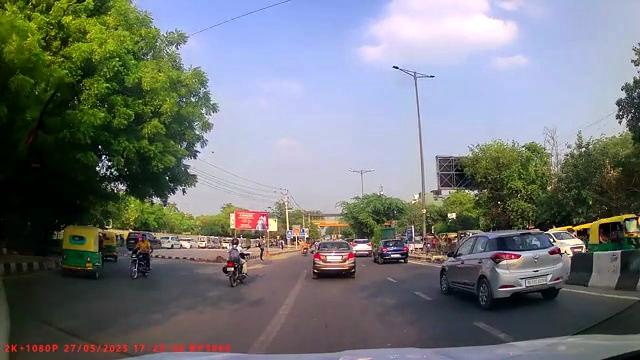motorcycle_with_helmet: (223, 236, 248, 288)
motorcycle_without_helmet: (223, 236, 248, 288)
